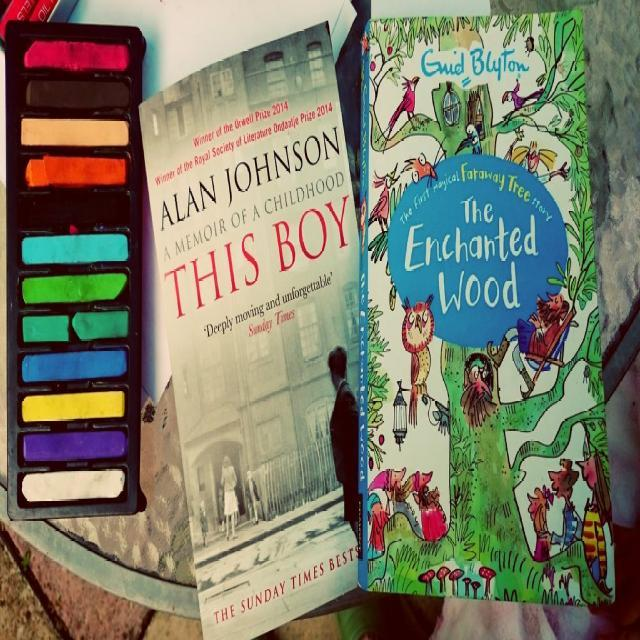book: (357, 10, 624, 612), (136, 15, 362, 640)
